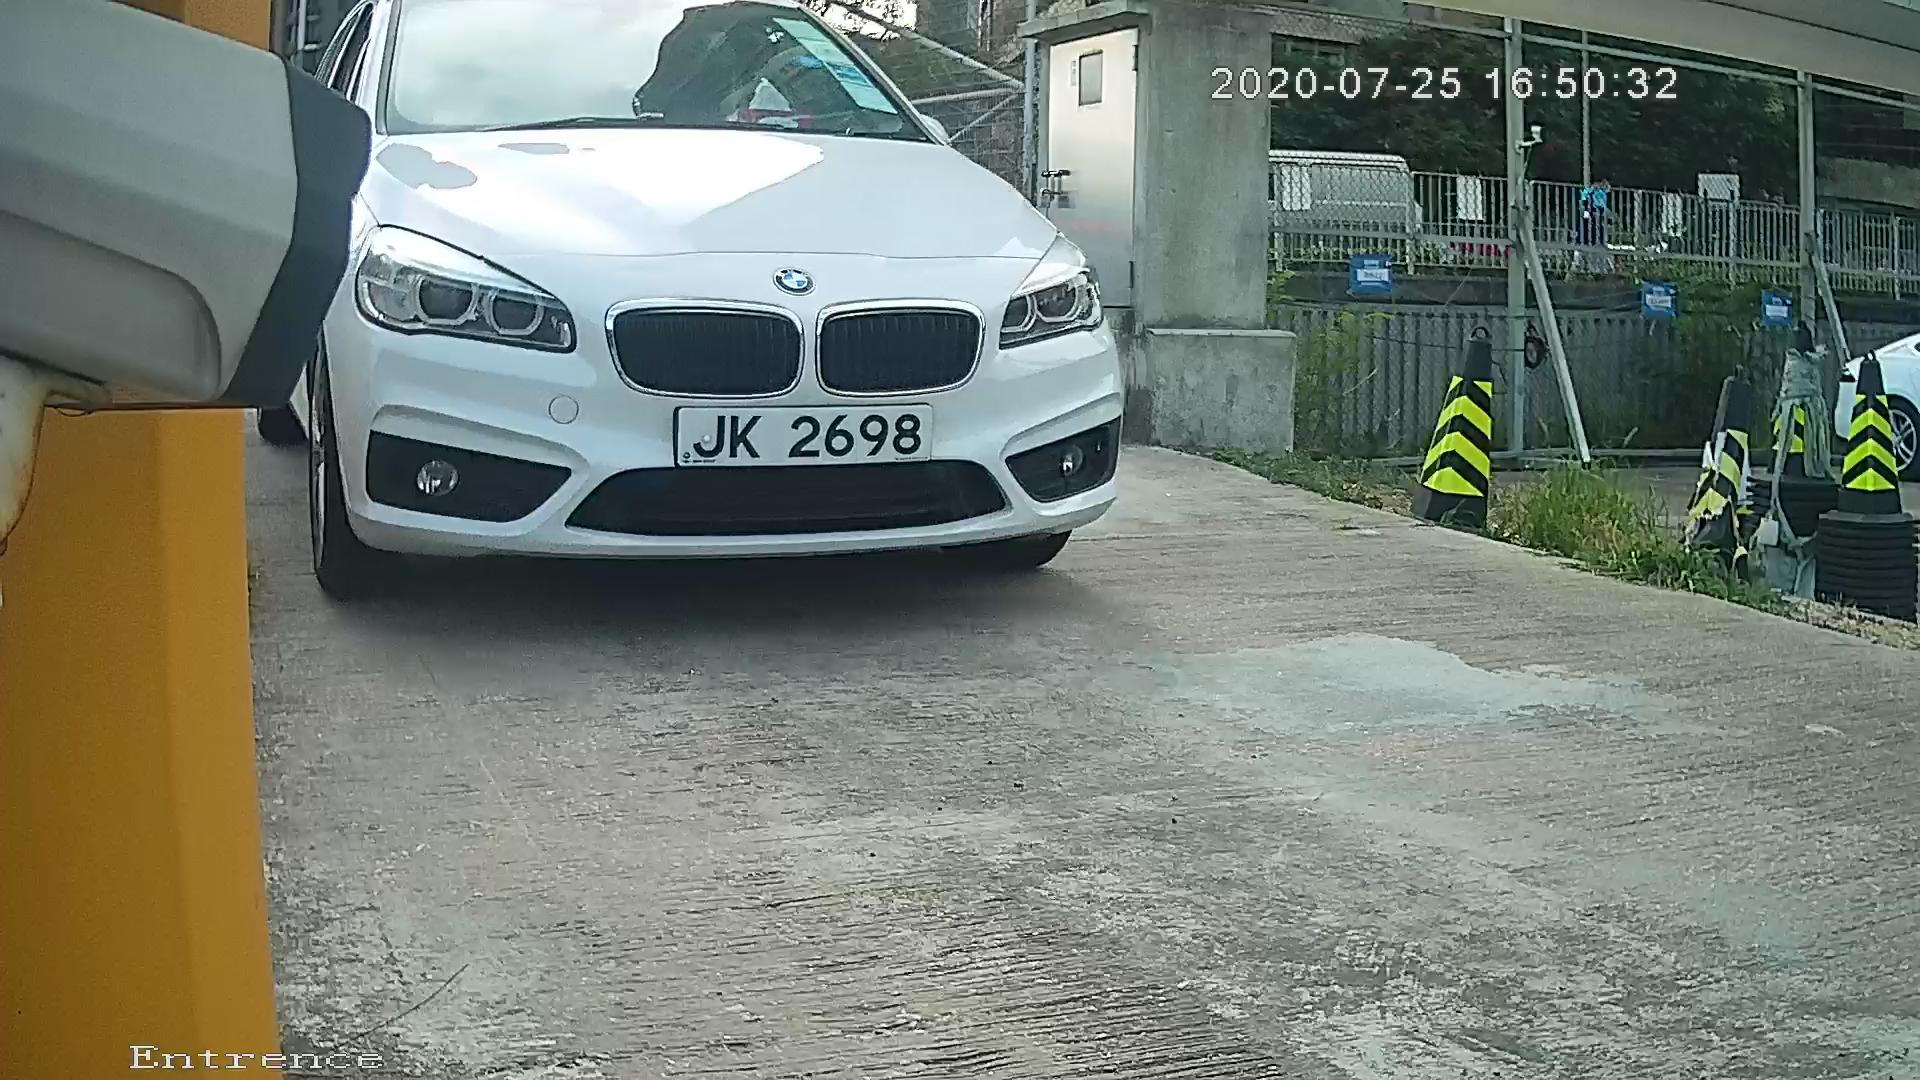License Plate: (635, 391, 986, 473)
